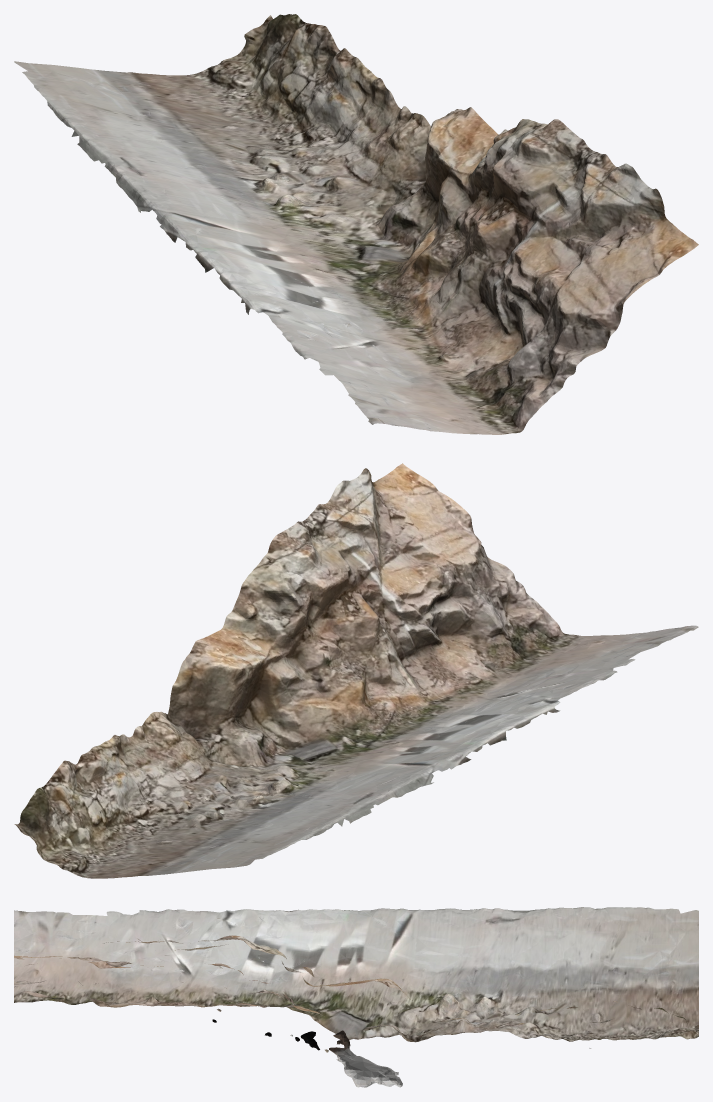
3 renders of one model, top to bottom at view 1: azimuth 30°, elevation 25°; view 2: azimuth 150°, elevation 25°; view 3: azimuth 270°, elevation 25°, orthographic. The views are drawn at different scales.
Size of the model in its own units: 2.22 by 1.3 by 5.05.
Materials: 1 (1 with a texture image).
